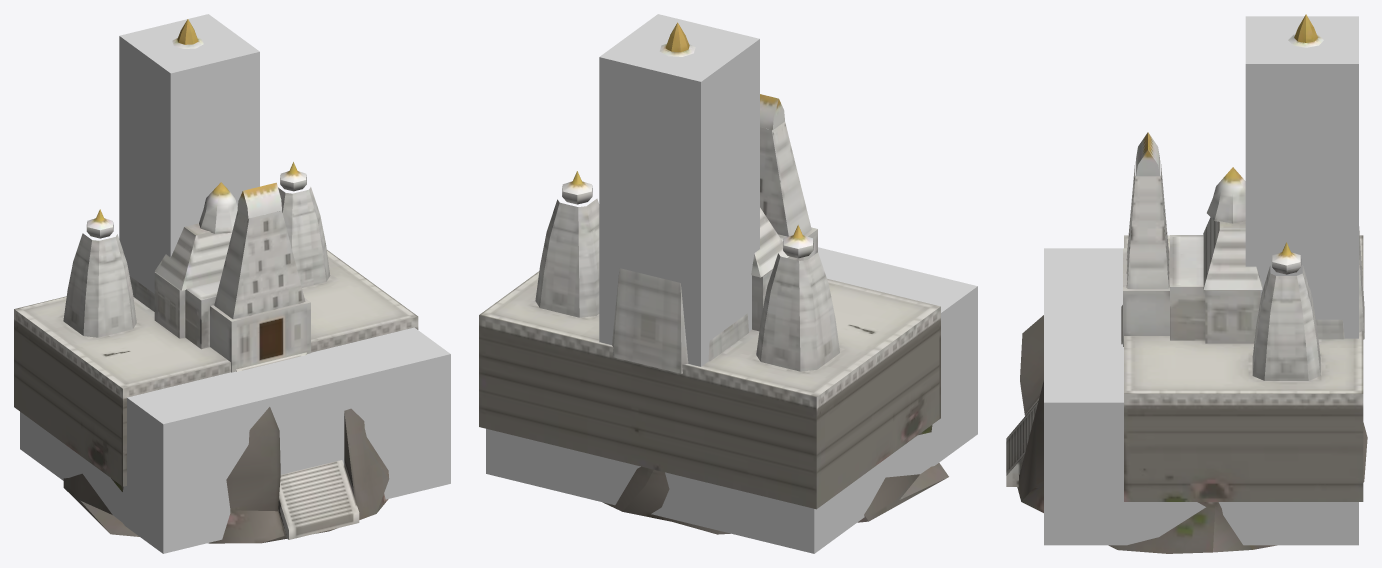
File: birla_mandir.glb
The picture shows the model from 3 angles, left to right: view 1: azimuth 30°, elevation 25°; view 2: azimuth 150°, elevation 25°; view 3: azimuth 270°, elevation 25°; orthographic projection. The views are drawn at different scales.
Visible parts, largest first — view 1: birla_mandir_body, COL_bm_hill, COL_bm_deul; view 2: birla_mandir_body, COL_bm_deul, COL_bm_hill; view 3: birla_mandir_body, COL_bm_hill, COL_bm_deul.
Part boxes in pixels (x1,y1,x2,y2): birla_mandir_body: (14, 19, 418, 543); COL_bm_hill: (20, 327, 450, 553); COL_bm_deul: (119, 14, 259, 293); birla_mandir_body: (479, 22, 948, 534); COL_bm_deul: (599, 14, 759, 366); COL_bm_hill: (486, 247, 977, 553); birla_mandir_body: (1006, 14, 1367, 553); COL_bm_hill: (1044, 248, 1358, 545); COL_bm_deul: (1245, 16, 1358, 338).
Bounding box in the file's own units: 64.58 × 80.71 × 57.37.
Materials: 1 (1 with a texture image).
